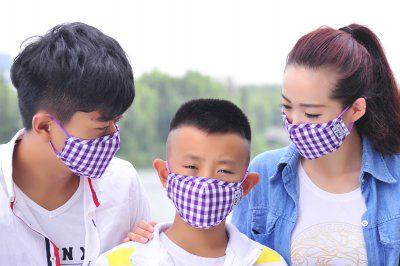OK: (39, 107, 126, 181), (166, 149, 245, 228), (279, 87, 352, 160)
